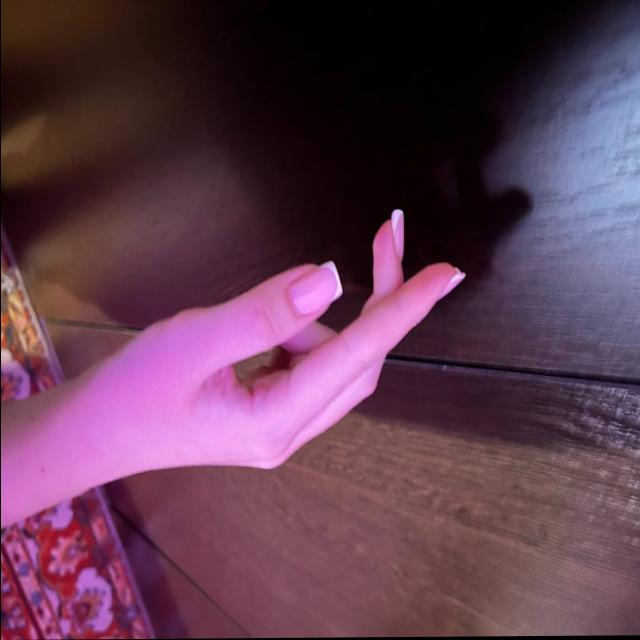b: (126, 202, 488, 530)
